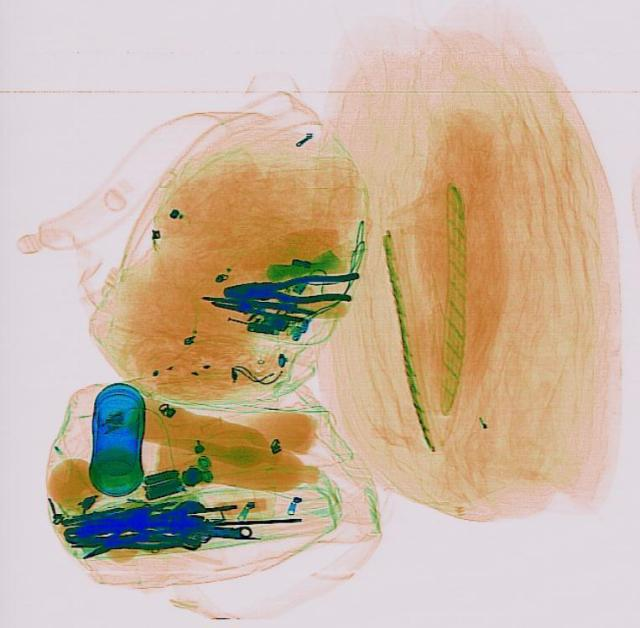Pliers: (222, 269, 358, 305)
Wrench: (64, 495, 208, 546)
